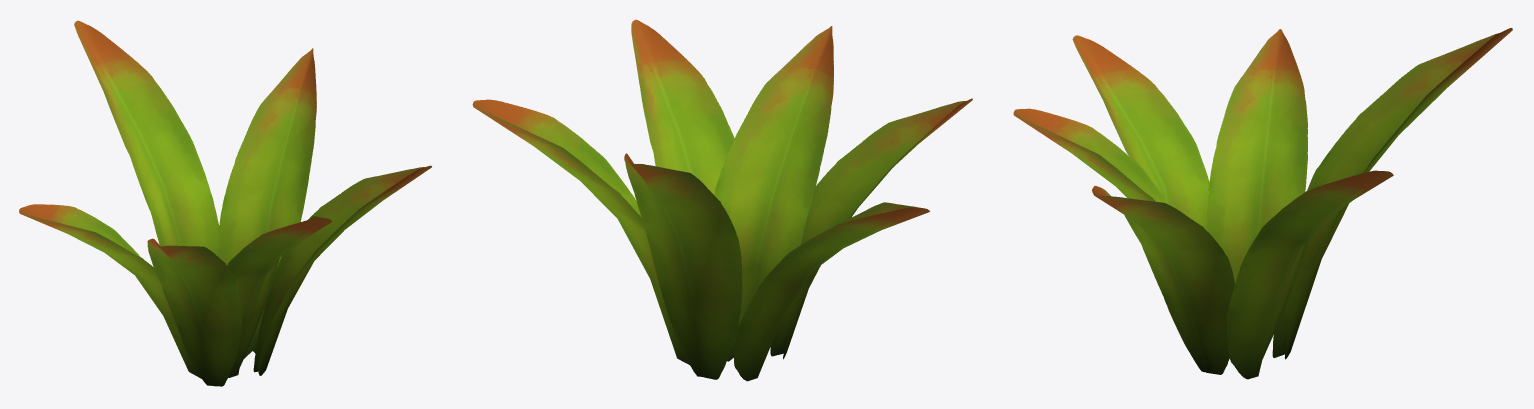
The model's file is Plant_1.gltf.
3 renders of one model, left to right at view 1: azimuth 30°, elevation 25°; view 2: azimuth 150°, elevation 25°; view 3: azimuth 270°, elevation 25°, orthographic. The views are drawn at different scales.
Parts seen in each view (by area): view 1: Plant_1; view 2: Plant_1; view 3: Plant_1.
Part boxes in pixels (x1=…): Plant_1: x1=19, y1=20, x2=431, y2=386; Plant_1: x1=472, y1=19, x2=972, y2=381; Plant_1: x1=1013, y1=28, x2=1512, y2=379.
Size of the model in its own units: 1.27 by 1.01 by 1.39.
1 material, 1 textured.
